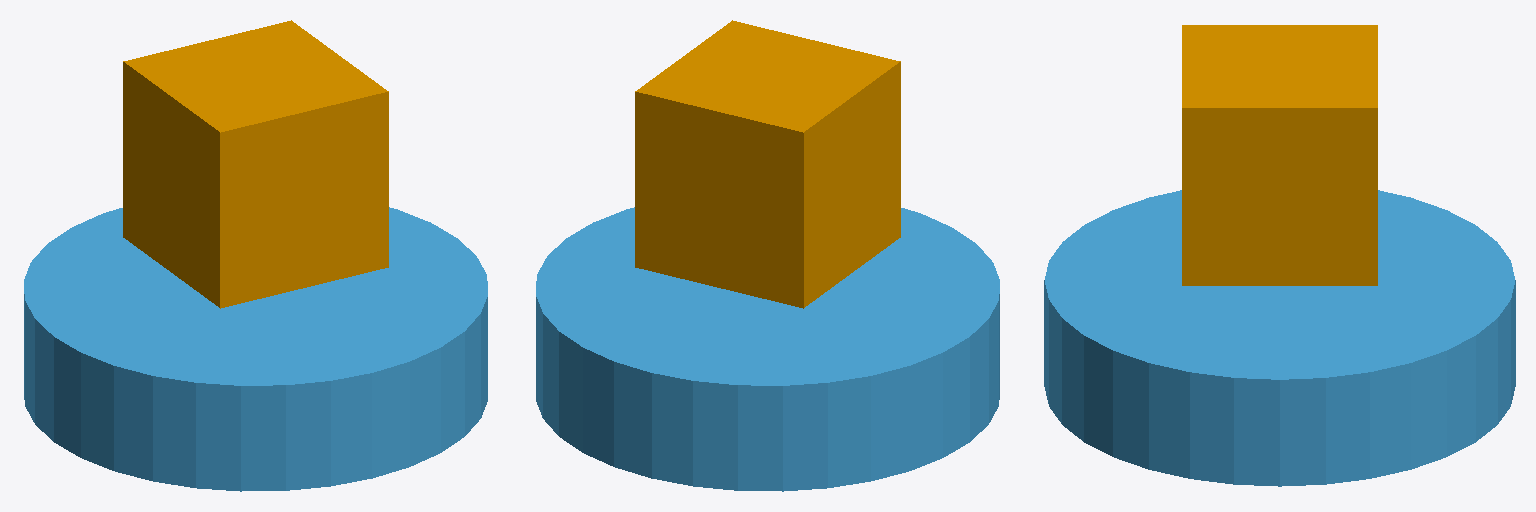
robot.urdf — block_peg:
<robot name="block_peg">
  <link name="block_peg:head">
    <inertial>
      <origin xyz="0.75 0.1 0.035" />
      <mass value="0.5" />
      <inertia ixx="0.0001" ixy="0.0"  ixz="0.0"  iyy="0.0001"  iyz="0.0"  izz="0.0001" />
    </inertial>
    <visual>
      <origin xyz="0.75 0.1 0.035"/>
      <geometry>
        <box size="0.025 0.025 0.025" />
      </geometry>
    </visual>
    <collision>
      <origin xyz="0.75 0.1 0.035"/>
      <geometry>
        <box size="0.025 0.025 0.025" />
      </geometry>
    </collision>
  </link>

  <link name="block_peg:body">
    <inertial>
      <origin xyz="0.75 0.1 0.01" />
      <mass value="0.5" />
      <inertia ixx="0.0001" ixy="0.0"  ixz="0.0"  iyy="0.0001"  iyz="0.0"  izz="0.0001" />
    </inertial>
    <visual>
      <origin xyz="0.75 0.1 0.01"/>
      <geometry>
        <cylinder length="0.015" radius="0.03"/>
      </geometry>
    </visual>
    <collision>
      <origin xyz="0.75 0.1 0.01"/>
      <geometry>
        <cylinder length="0.03" radius="0.015"/>
      </geometry>
    </collision>
  </link>

  <joint name="block_peg:head_to_body" type="fixed">
    <parent link="block_peg:head" />
    <child link="block_peg:body" />
  </joint>

  <gazebo reference="block_peg">
    <material>Gazebo/Red</material>
     <mu1>1000000000</mu1>
     <mu2>1000000000</mu2>
  </gazebo>
</robot>

--- Facts derived from the render (not from the file) ---
The picture shows the robot from 3 angles, left to right: view 1: azimuth 30°, elevation 25°; view 2: azimuth 150°, elevation 25°; view 3: azimuth 270°, elevation 25°; orthographic projection.
Robot: block_peg — 2 links, 1 joints (1 fixed); root link block_peg:head; default pose: every joint at zero.
Links seen in each view (by area): view 1: block_peg:body, block_peg:head; view 2: block_peg:body, block_peg:head; view 3: block_peg:body, block_peg:head.
Boxes of the visible links, <box> form: block_peg:body: <box>24,207,487,491</box>; block_peg:head: <box>123,20,388,308</box>; block_peg:body: <box>536,207,999,491</box>; block_peg:head: <box>635,20,900,308</box>; block_peg:body: <box>1044,190,1515,486</box>; block_peg:head: <box>1182,25,1377,285</box>.
Bounding box of the posed robot: 0.06 × 0.06 × 0.045 m (x, y, z).
Geometry: primitives only (box / cylinder / sphere), no mesh files.